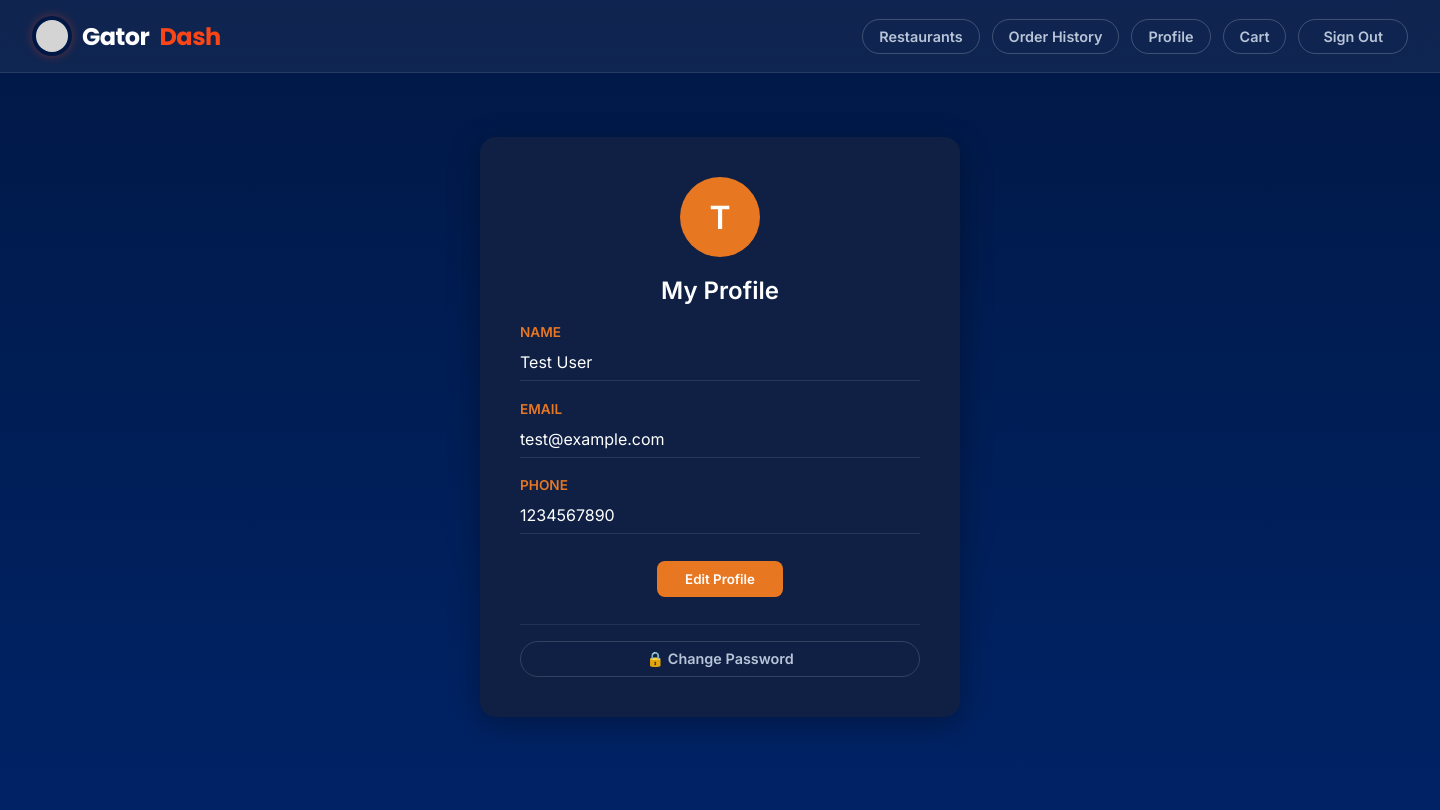
it: Profile Component › shows validation error for invalid email
This screenshot has width=1440, height=810.
Click the button "Edit Profile" at (720, 579), box [657,561,783,597]
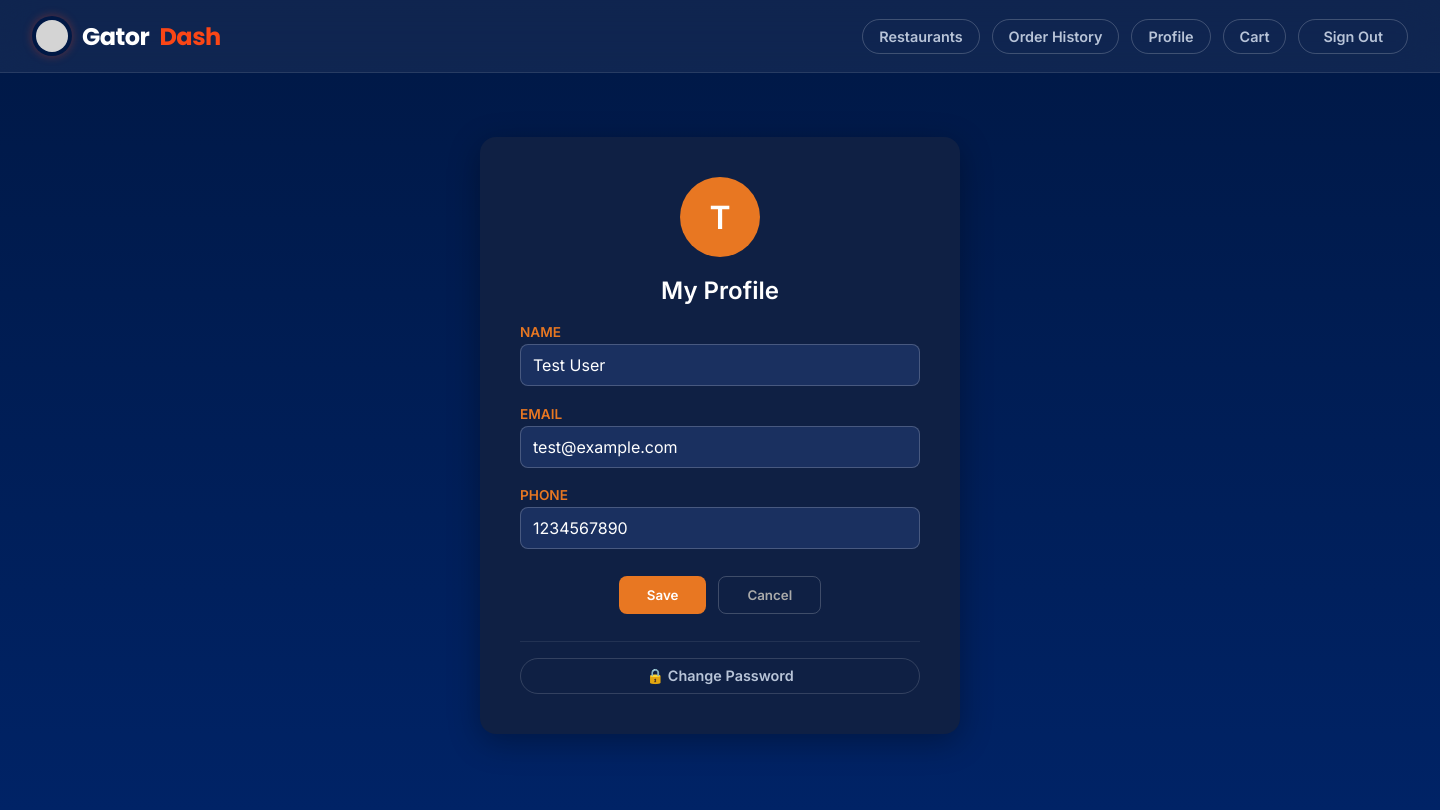
// Email is the second input (name, email, phone)
Replace the text in the field below "Email" with "invalidemail" at (720, 447), box [520,426,920,468]
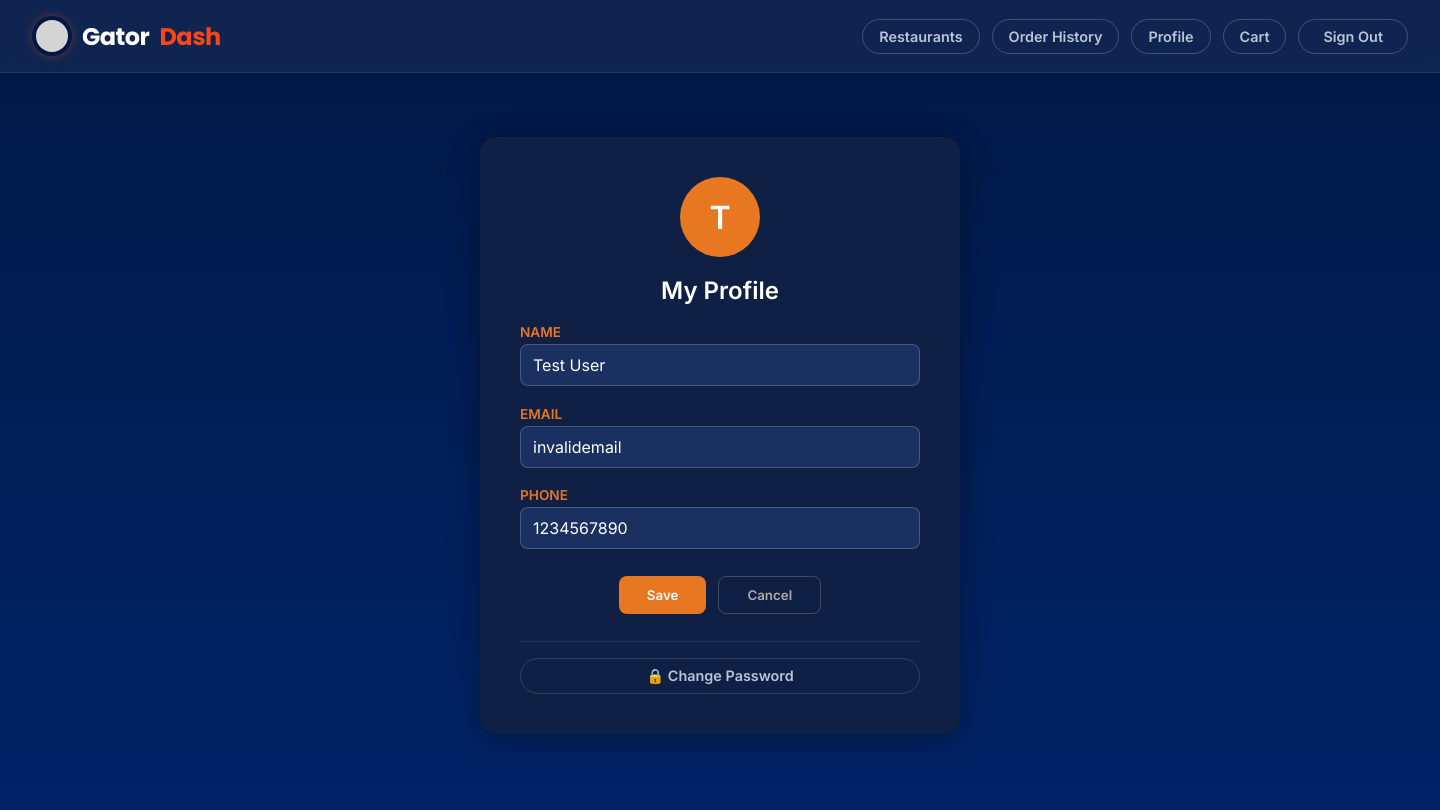
Click the button "Save" at (663, 595), box [619,576,706,614]
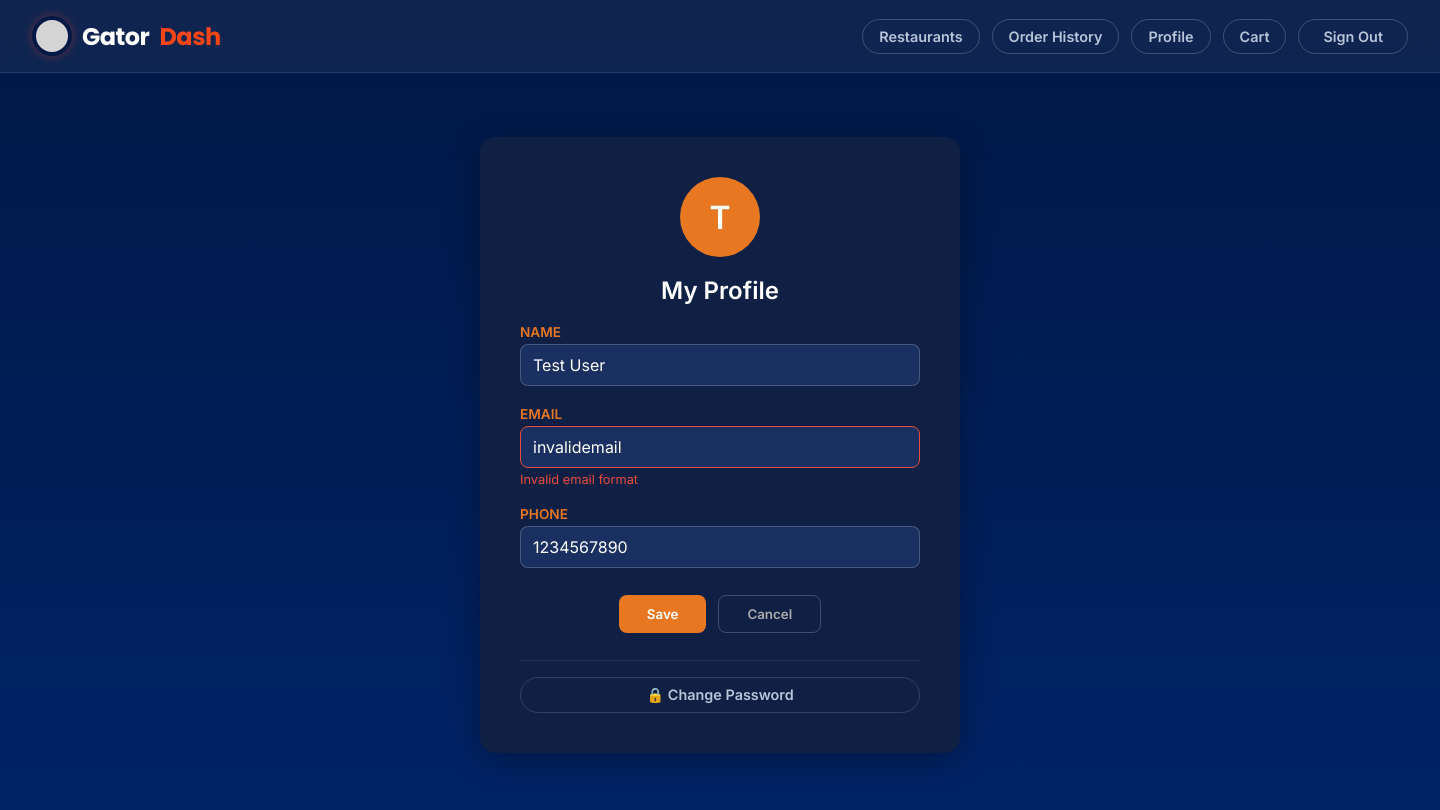
Expected: the text "Invalid email format" is shown, [520,472,638,487]
